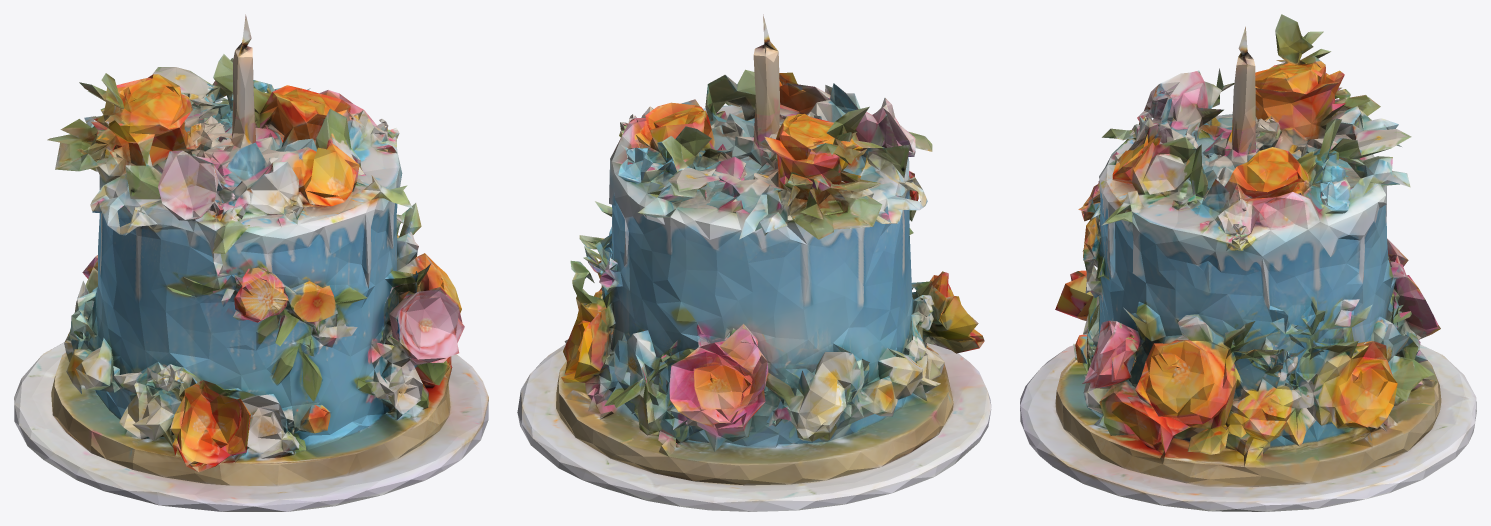
The model's file is cake.glb.
3 views of the same model, side by side, from view 1: azimuth 30°, elevation 25°; view 2: azimuth 150°, elevation 25°; view 3: azimuth 270°, elevation 25° (orthographic). The views are drawn at different scales.
Visible parts, largest first — view 1: temp; view 2: temp; view 3: temp.
Part boxes in pixels (x1,y1,x2,y2): temp: (14,14,488,511); temp: (517,14,991,511); temp: (1020,14,1476,511).
Size of the model in its own units: 2 by 1.97 by 2.
1 material, 1 textured.
